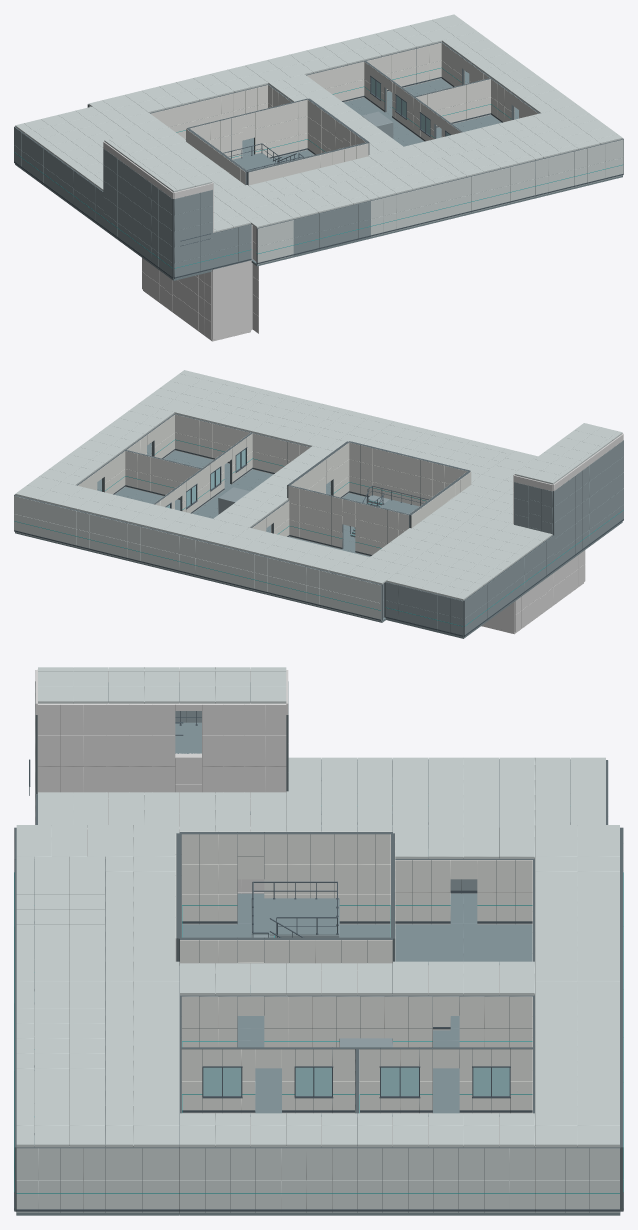
The model's file is WC_B4_Architecture.fbx.
3 renders of one model, top to bottom at view 1: azimuth 30°, elevation 25°; view 2: azimuth 150°, elevation 25°; view 3: azimuth 270°, elevation 25°, orthographic. The views are drawn at different scales.
Visible parts, largest first — view 1: LC_B4_B4_Service_5_3, LC_B4_LP_WallSteel_5_3, LC_B4_B4_Ceiling_2_3, LC_B4_B4_Ceiling_0_3, LC_B4_B4_Ceiling_4_3, LC_B4_B4_Ceiling_5_0, LC_B4_B4_Ceiling_1_3, LC_B4_B4_Ceiling_3_3, LC_B4_B4_Panel_1_3, LC_B4_B4_Clinical_3_1, LC_B4_B4_Panel_0_3, LC_B4_B4_Panel_2_3 (+42 smaller); view 2: LC_B4_B4_Service_5_2, LC_B4_B4_Service_5_0, LC_B4_B4_Ceiling_0_3, LC_B4_B4_Ceiling_2_3, LC_B4_B4_Clinical_3_2, LC_B4_B4_Service_5_3, LC_B4_B4_Ceiling_5_0, LC_B4_B4_Ceiling_5_1, LC_B4_B4_Clinical_3_1, LC_B4_B4_Ceiling_1_3, LC_B4_B4_Panel_1_0, LC_B4_B4_Clinical_1_2 (+40 smaller); view 3: LC_B4_LP_WallSteel_5_3, LC_B4_B4_Ceiling_2_3, LC_B4_B4_Ceiling_0_3, LC_B4_B4_Clinical_4_1, LC_B4_B4_Ceiling_4_3, LC_B4_B4_Panel_0_3, LC_B4_B4_Panel_0_0, LC_B4_B4_Ceiling_5_3, LC_B4_B4_Ceiling_5_2, LC_B4_B4_Panel_0_2, LC_B4_B4_Ceiling_5_0, LC_B4_B4_Ceiling_5_1 (+46 smaller).
Part boxes in pixels (box(x1,y1,x2,y2)): LC_B4_B4_Service_5_3: box(131, 169, 238, 278); LC_B4_LP_WallSteel_5_3: box(103, 141, 251, 339); LC_B4_B4_Ceiling_2_3: box(352, 140, 483, 194); LC_B4_B4_Ceiling_0_3: box(498, 104, 622, 158); LC_B4_B4_Ceiling_4_3: box(213, 177, 335, 228); LC_B4_B4_Ceiling_5_0: box(15, 106, 129, 155); LC_B4_B4_Ceiling_1_3: box(430, 123, 543, 172); LC_B4_B4_Ceiling_3_3: box(283, 160, 395, 208); LC_B4_B4_Panel_1_3: box(471, 158, 548, 212); LC_B4_B4_Clinical_3_1: box(220, 104, 287, 159); LC_B4_B4_Panel_0_3: box(548, 139, 623, 193); LC_B4_B4_Panel_2_3: box(396, 177, 471, 230); LC_B4_B4_Service_5_2: box(514, 471, 581, 576); LC_B4_B4_Service_5_0: box(398, 574, 501, 636); LC_B4_B4_Ceiling_0_3: box(139, 370, 262, 423); LC_B4_B4_Ceiling_2_3: box(286, 404, 411, 450); LC_B4_B4_Clinical_3_2: box(360, 445, 432, 506); LC_B4_B4_Service_5_3: box(582, 440, 623, 550); LC_B4_B4_Ceiling_5_0: box(386, 551, 503, 600); LC_B4_B4_Ceiling_5_1: box(426, 522, 542, 571); LC_B4_B4_Clinical_3_1: box(310, 491, 376, 556); LC_B4_B4_Ceiling_1_3: box(218, 389, 323, 440); LC_B4_B4_Panel_1_0: box(89, 514, 166, 568); LC_B4_B4_Clinical_1_2: box(213, 423, 287, 495); LC_B4_LP_WallSteel_5_3: box(35, 669, 250, 824); LC_B4_B4_Ceiling_2_3: box(16, 946, 179, 1023); LC_B4_B4_Ceiling_0_3: box(16, 1075, 179, 1147); LC_B4_B4_Clinical_4_1: box(311, 831, 477, 924); LC_B4_B4_Ceiling_4_3: box(16, 825, 179, 894); LC_B4_B4_Panel_0_3: box(16, 1148, 179, 1212); LC_B4_B4_Panel_0_0: box(459, 1082, 623, 1212); LC_B4_B4_Ceiling_5_3: box(38, 667, 179, 827); LC_B4_B4_Ceiling_5_2: box(180, 667, 321, 825); LC_B4_B4_Panel_0_2: box(180, 1148, 331, 1212); LC_B4_B4_Ceiling_5_0: box(464, 757, 605, 824); LC_B4_B4_Ceiling_5_1: box(322, 757, 463, 824).
Size of the model in its own units: 5188 by 1780 by 3435.
